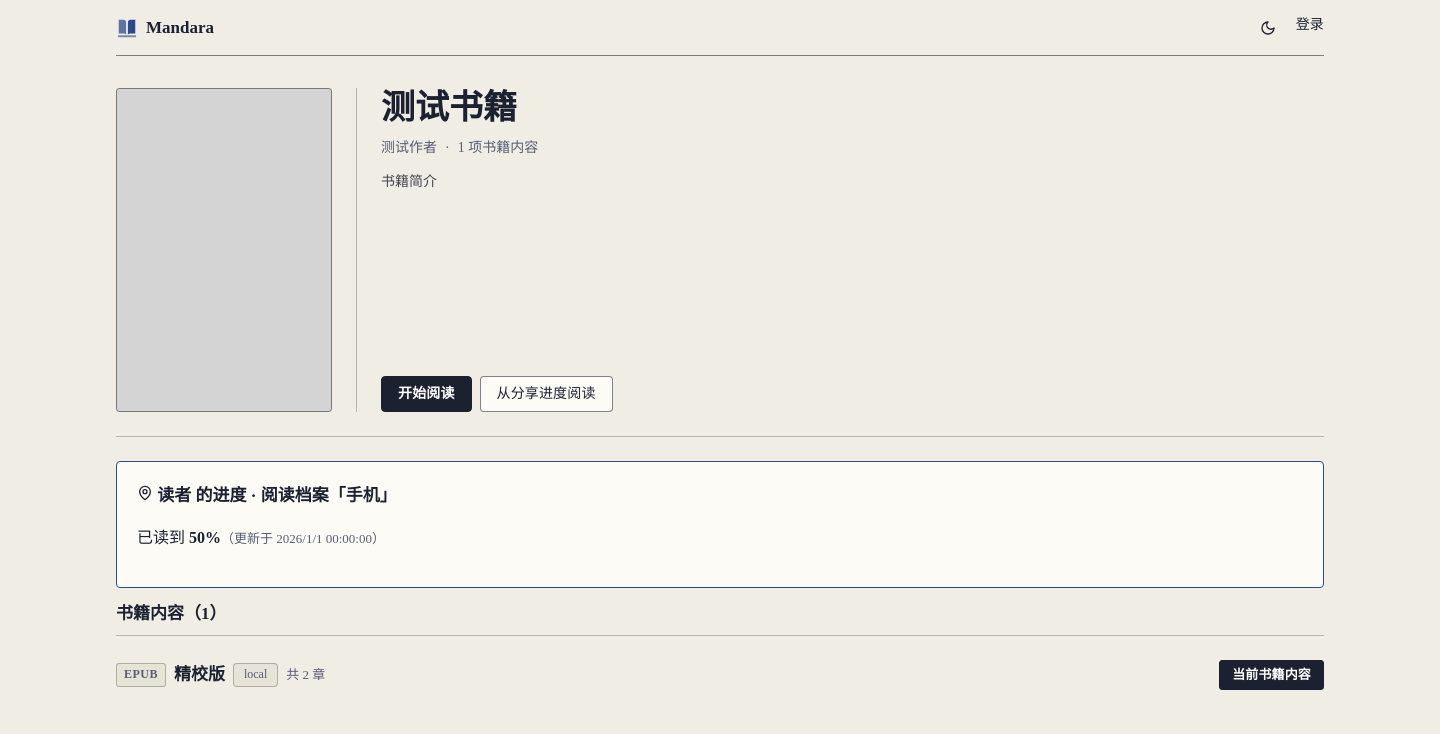
Test: keeps session shares on the overview and lets visitors choose the shared progress or the beginning
expect the heading "读者 的进度 · 阅读档案「手机」" is shown: met, box [137,485,397,505]
expect the text "50%" is shown: met, box [189,529,221,546]
Step 1. Click the link "从分享进度阅读" → (546, 394), box [480,376,613,412]
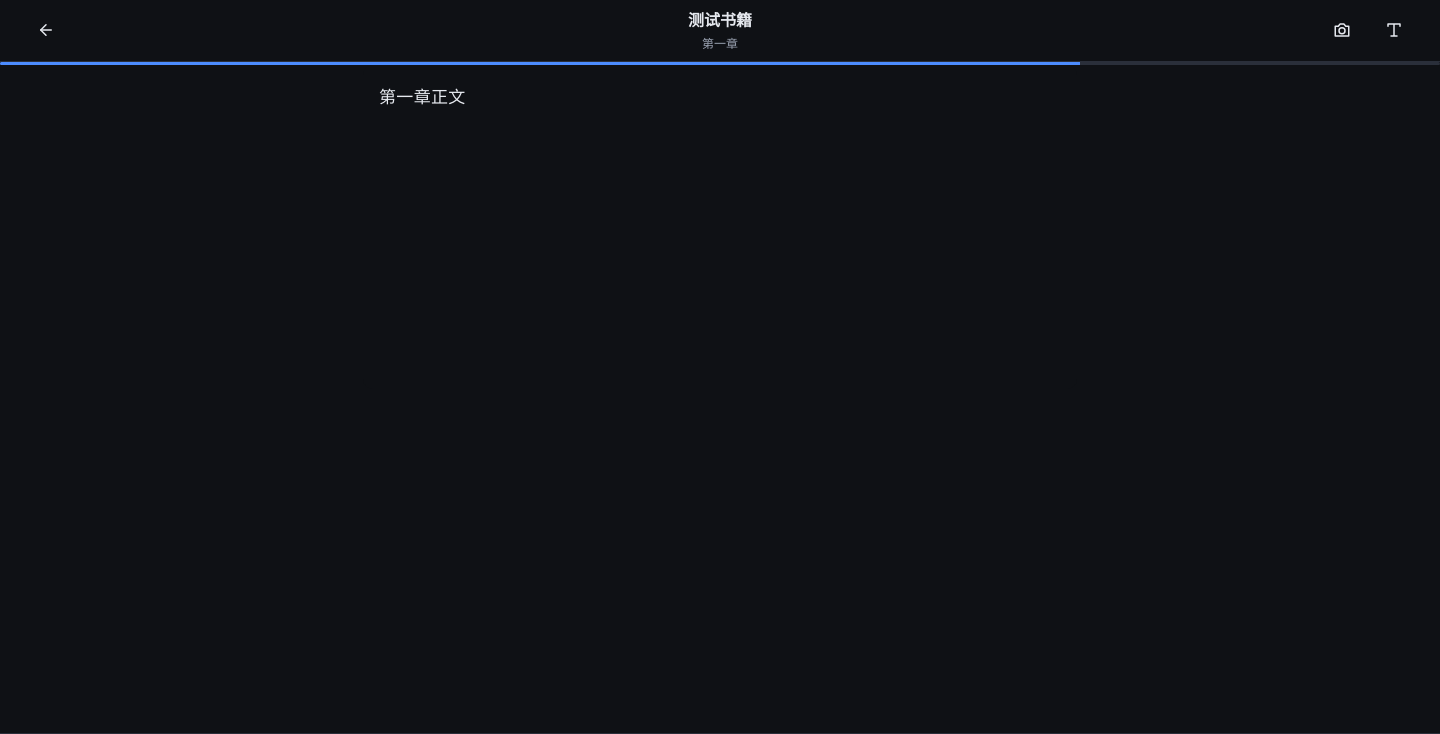
expect the text "第一章正文" is shown: met, box [379,88,466,107]
Step 2. Click the link named "返回书籍详情" → (46, 30), box [37,21,55,39]
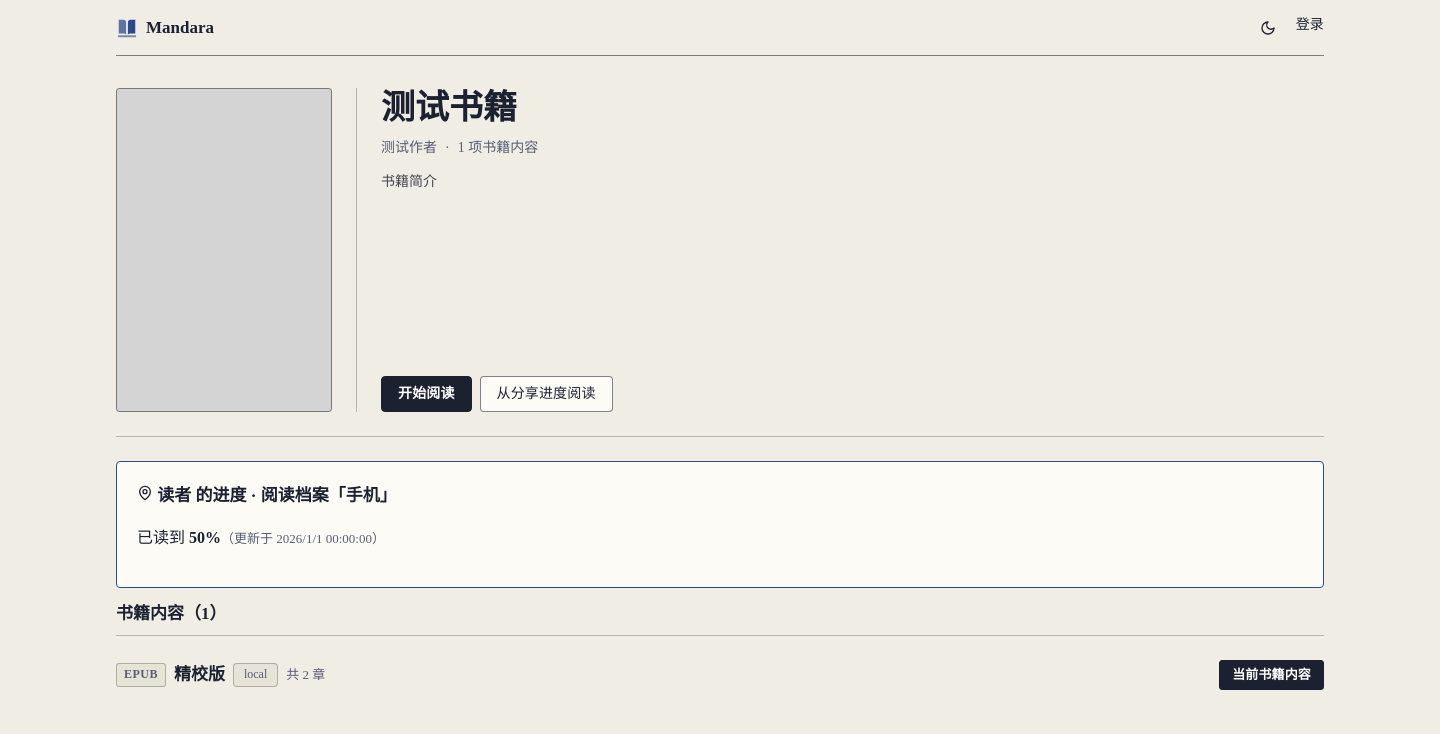
Step 3. Click the link "开始阅读" → (426, 394), box [381,376,472,412]
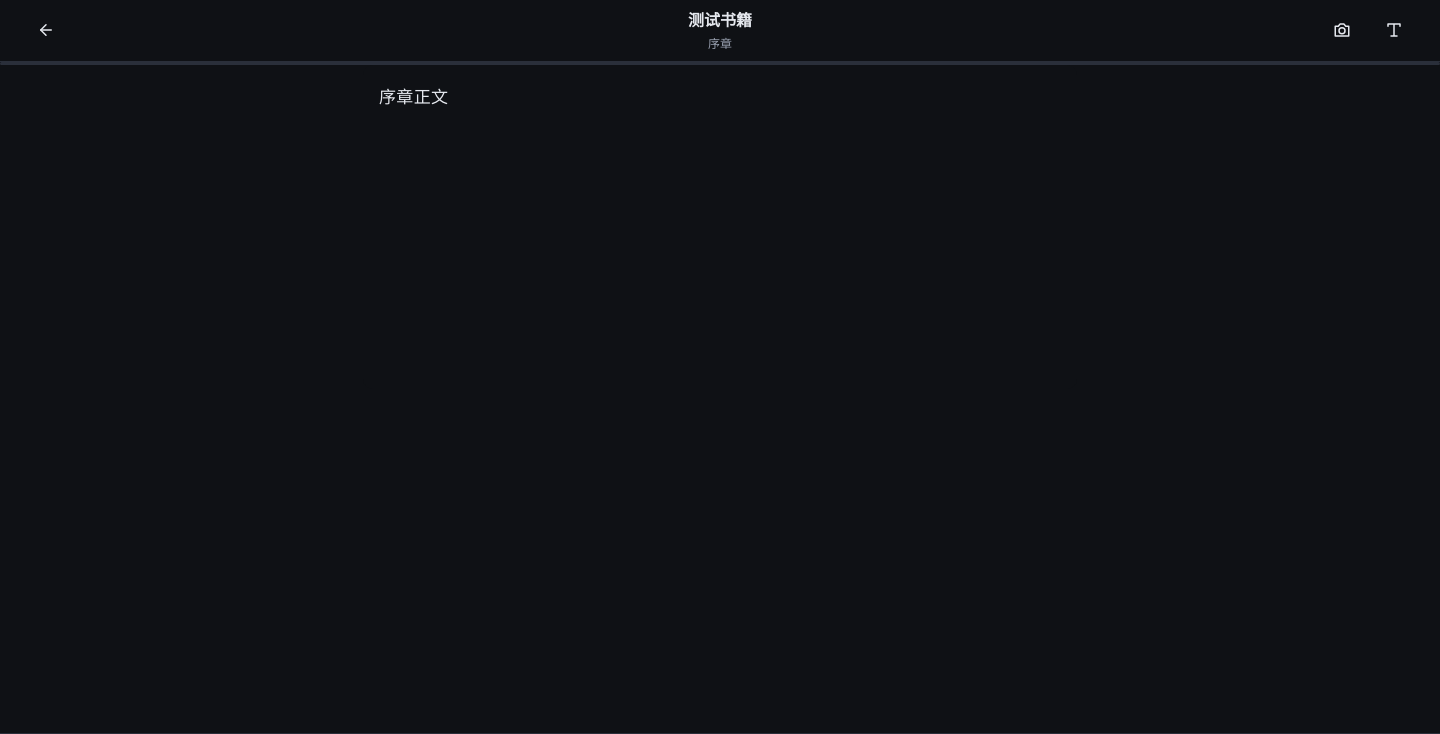
expect the text "序章正文" is shown: met, box [379,88,448,107]
